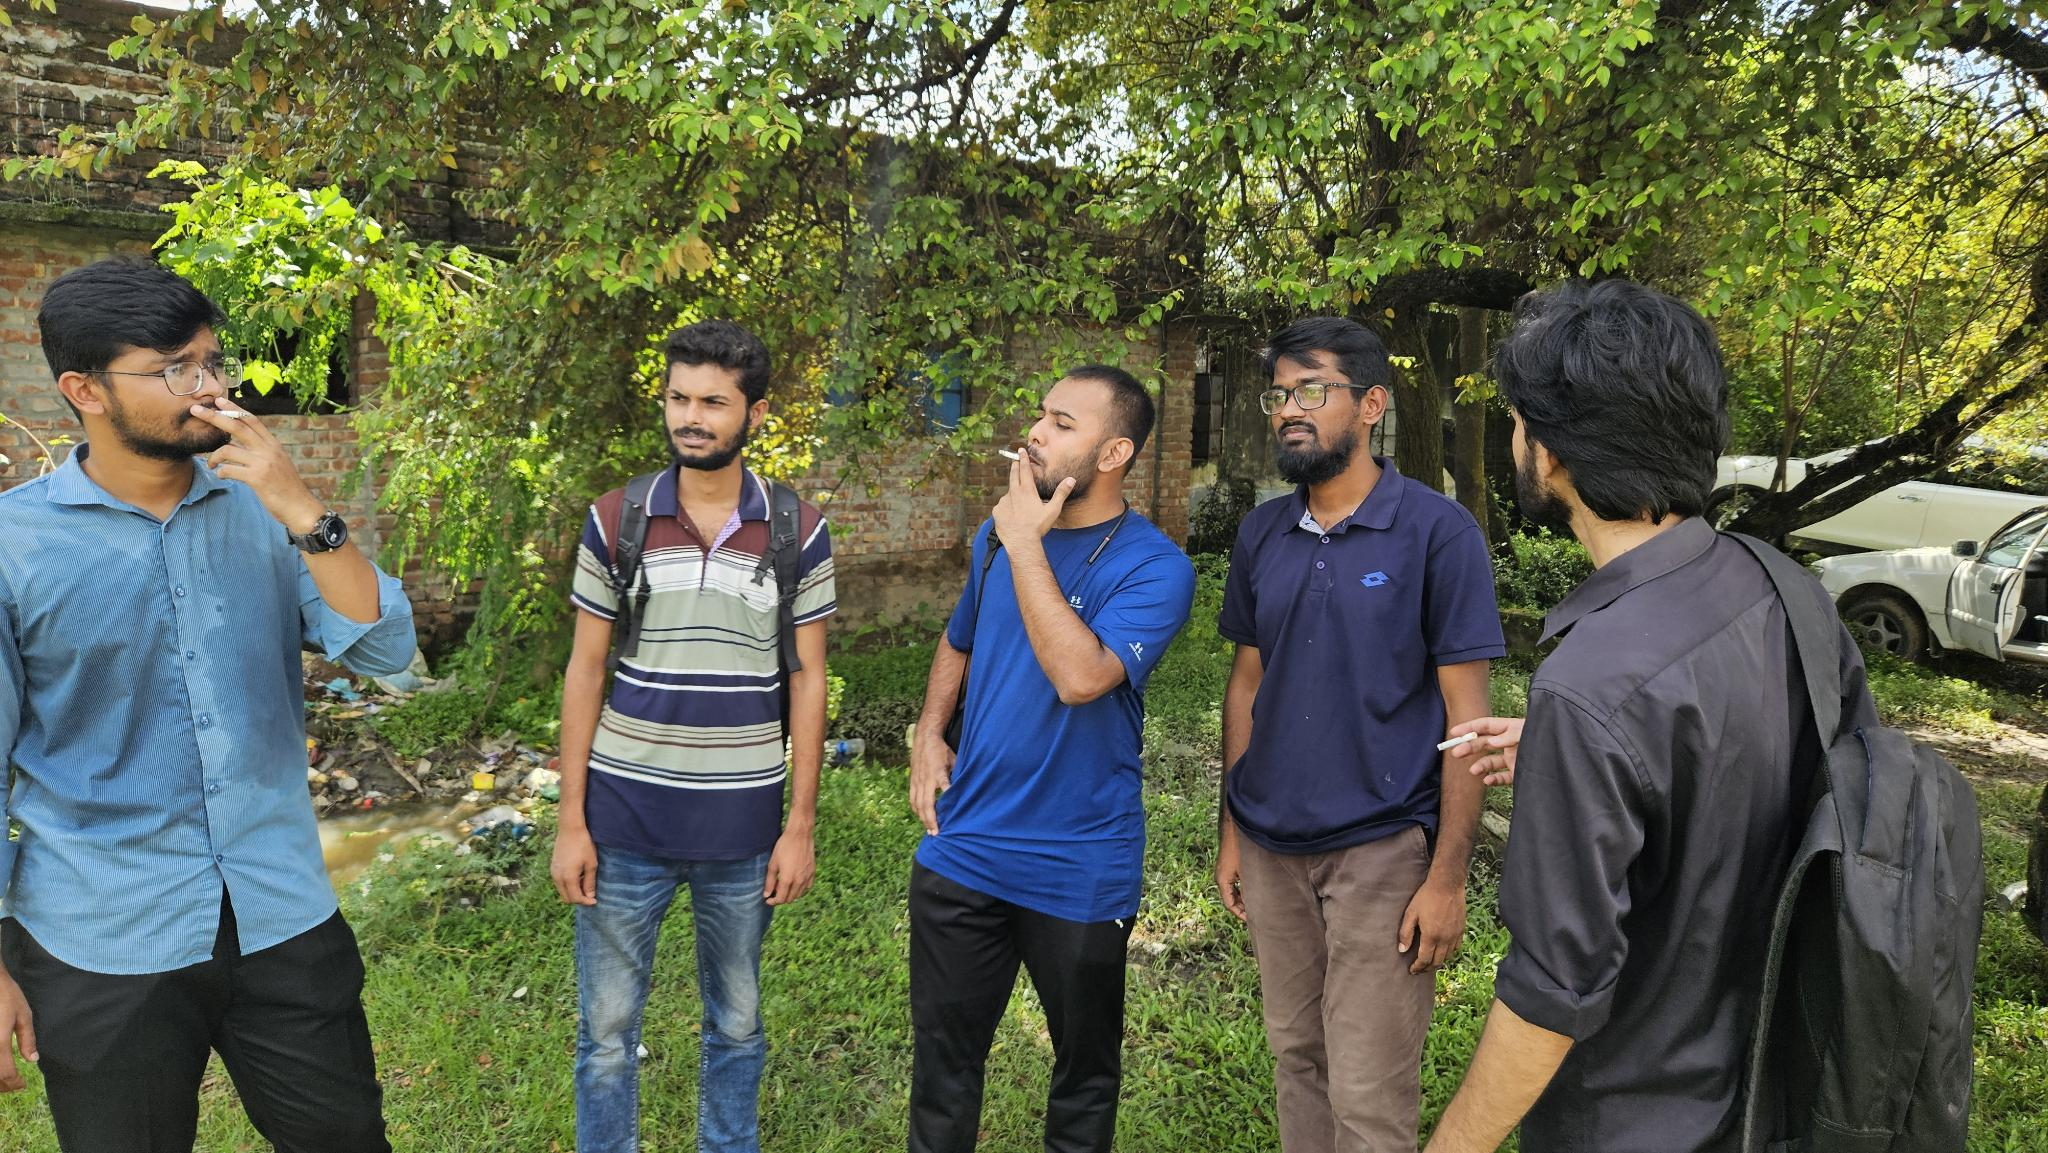cigarette: (1433, 730, 1478, 754), (212, 408, 252, 420), (996, 449, 1021, 463)
nonSmoker: (1218, 315, 1506, 1153), (551, 322, 836, 1153)
smoker: (1449, 276, 1983, 1153), (0, 256, 418, 1153), (907, 366, 1197, 1153)
